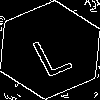L: (25, 25, 74, 78)
